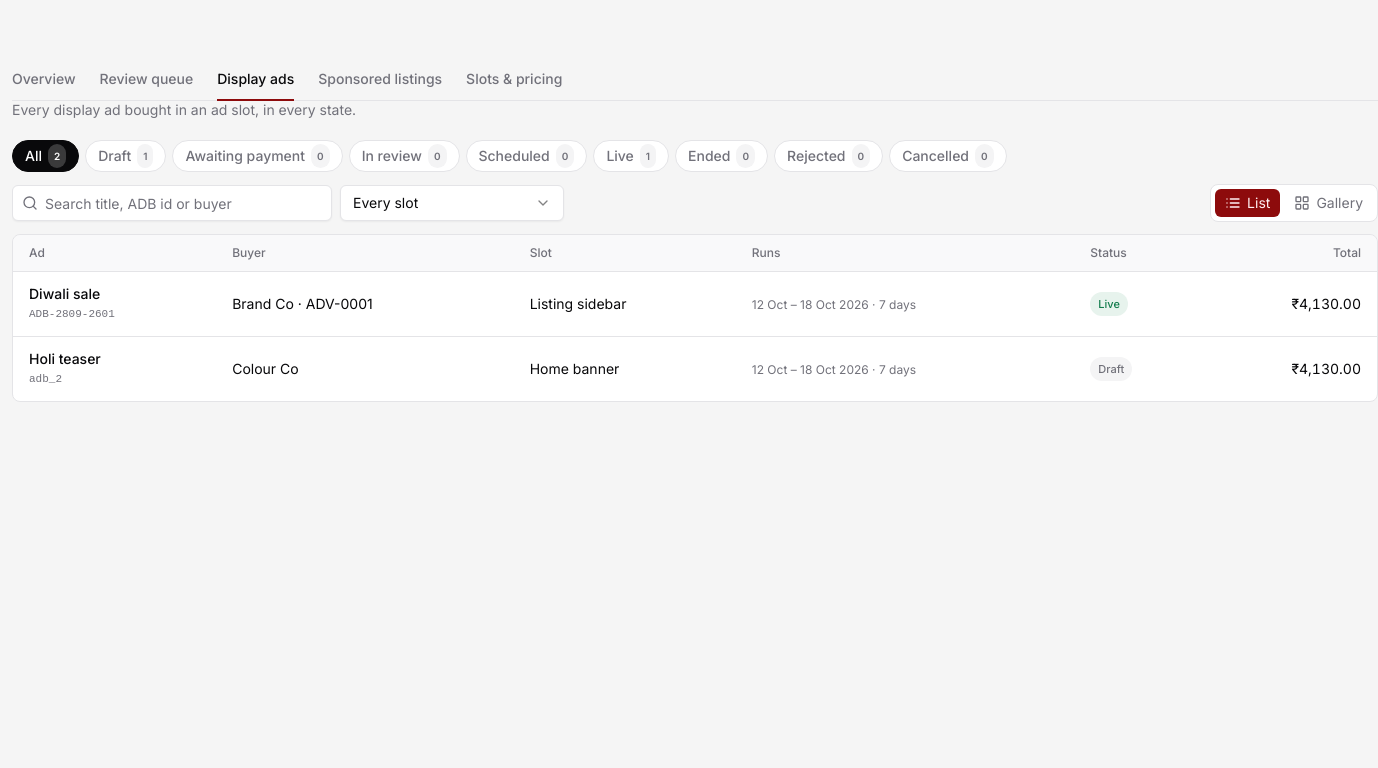
Test: Display ads › Gallery › draws every loaded ad as its artwork with the reference, advertiser, slot, status and dates
The image size is (1378, 768).
Check: the button with test id "ad-open-adb_1" is shown, box [29,284,115,324]
Click the button with test id "ads-view-gallery".
click(1329, 203)  # box [1284,189,1373,217]
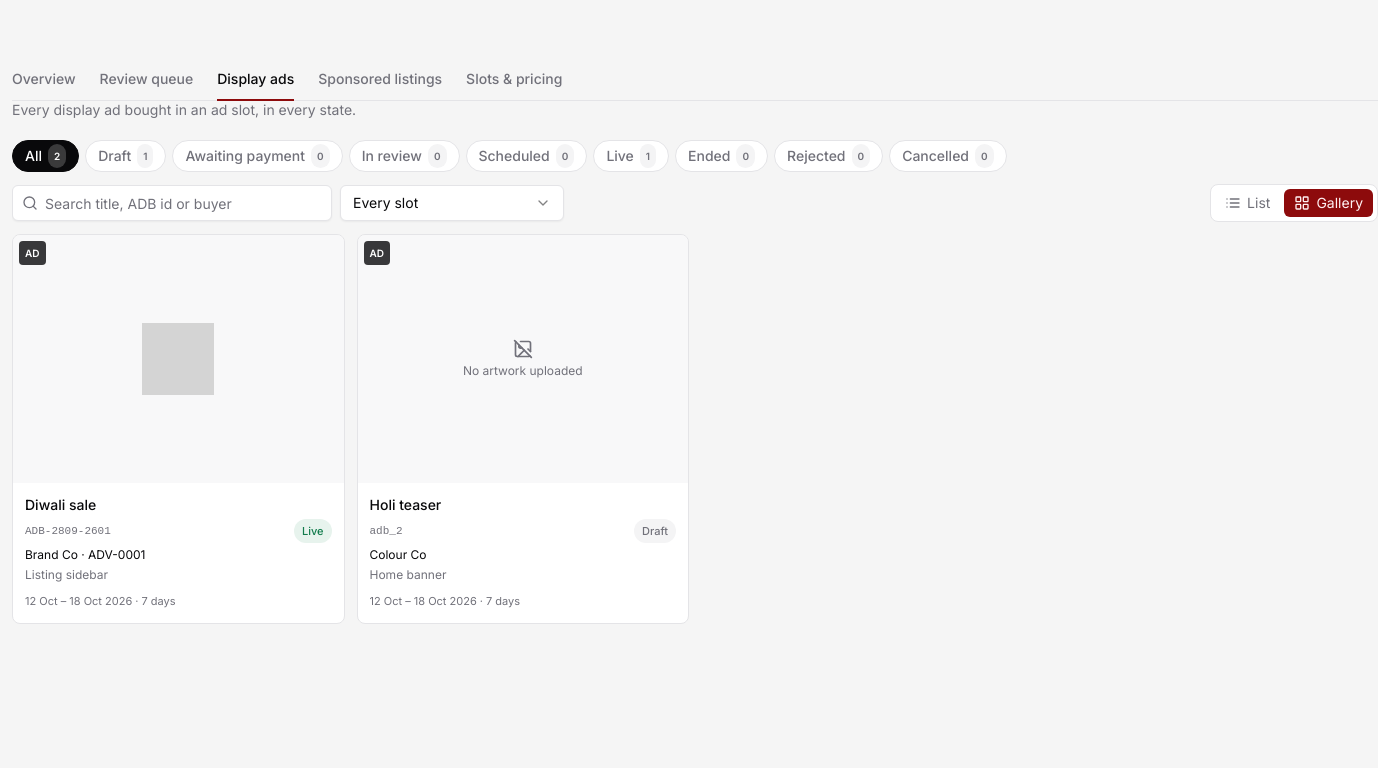
Check: the text "Diwali sale" is shown, box [25,496,96,513]
Check: the text "No artwork uploaded" is shown, box [463,339,583,379]
